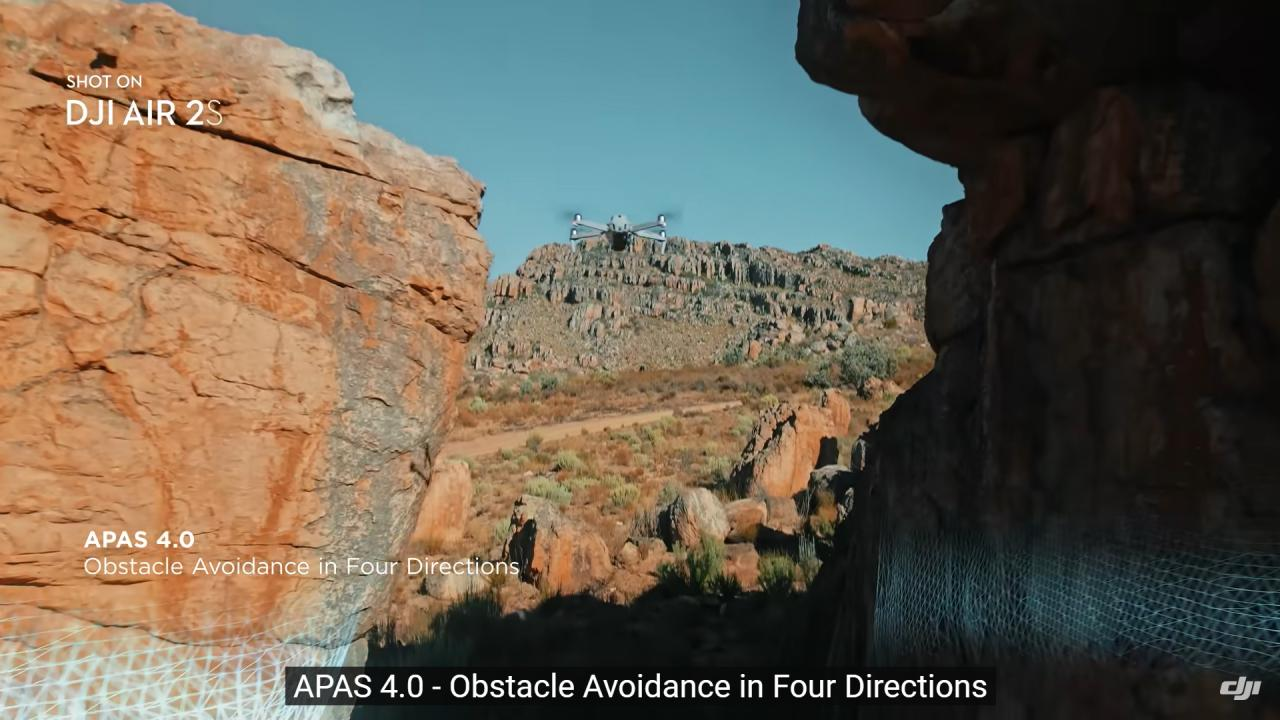Drone: (556, 198, 686, 267)
